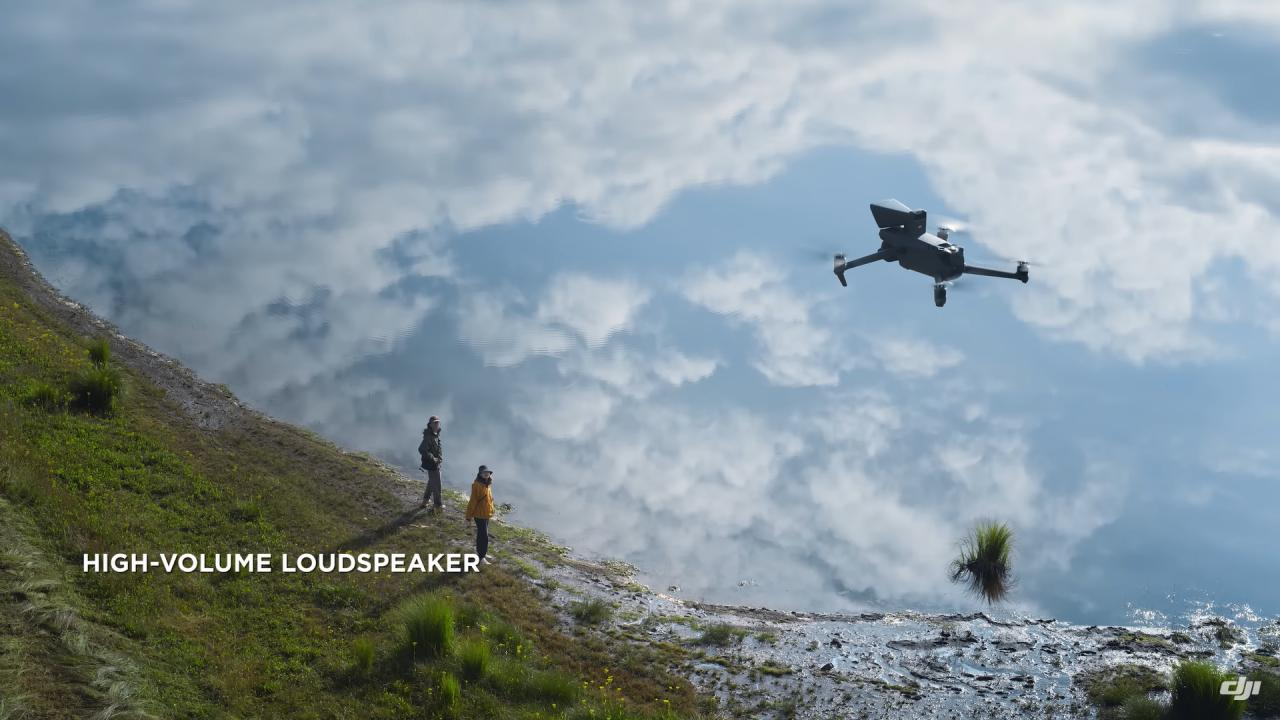Drone: (784, 185, 1066, 317)
